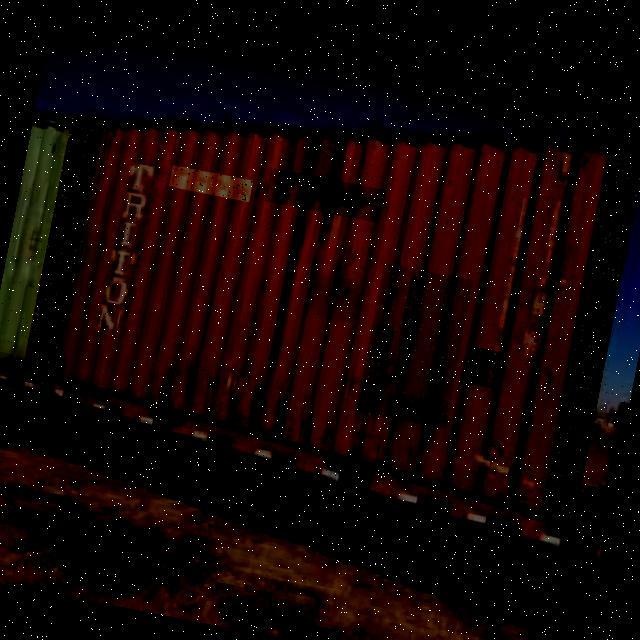Minor-Dent: (265, 168, 385, 223), (169, 165, 254, 202), (460, 346, 502, 389)
Rust: (540, 163, 640, 521), (21, 114, 105, 387), (356, 263, 474, 429)
